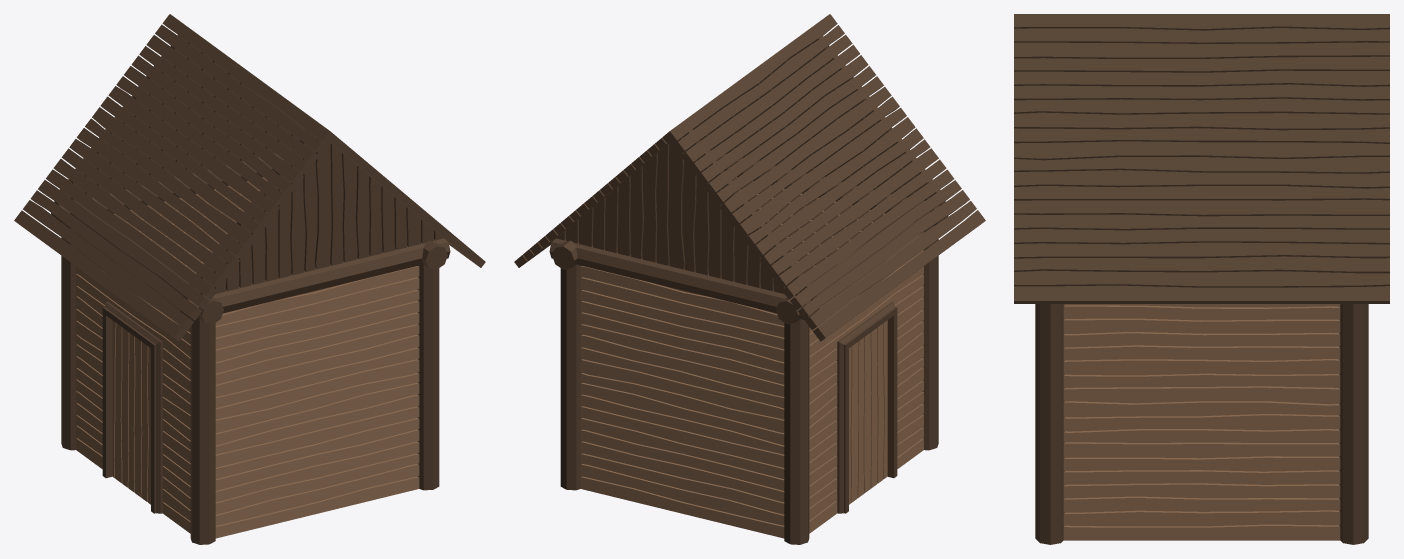
Rendered from Wooden House.fbx.
The picture shows the model from 3 angles, left to right: view 1: azimuth 30°, elevation 25°; view 2: azimuth 150°, elevation 25°; view 3: azimuth 270°, elevation 25°; orthographic projection. The views are drawn at different scales.
Visible parts, largest first — view 1: Layer 3: Walls Joined, Layer 4: Roof Joined, Layer 2: Frame Joined, Layer 1: Foundation Joined; view 2: Layer 3: Walls Joined, Layer 4: Roof Joined, Layer 2: Frame Joined, Layer 1: Foundation Joined; view 3: Layer 4: Roof Joined, Layer 3: Walls Joined, Layer 2: Frame Joined, Layer 1: Foundation Joined.
Boxes of the visible parts, x1,y1,x2,y2 form: Layer 3: Walls Joined: [76, 177, 419, 538]; Layer 4: Roof Joined: [14, 14, 485, 341]; Layer 2: Frame Joined: [51, 149, 450, 521]; Layer 1: Foundation Joined: [61, 420, 439, 544]; Layer 3: Walls Joined: [580, 177, 923, 538]; Layer 4: Roof Joined: [514, 14, 985, 341]; Layer 2: Frame Joined: [549, 150, 948, 521]; Layer 1: Foundation Joined: [560, 420, 938, 544]; Layer 4: Roof Joined: [1014, 14, 1389, 303]; Layer 3: Walls Joined: [1063, 304, 1340, 540]; Layer 2: Frame Joined: [1035, 304, 1368, 517]; Layer 1: Foundation Joined: [1035, 511, 1368, 544].
Size of the model in its own units: 316 by 355 by 427.
